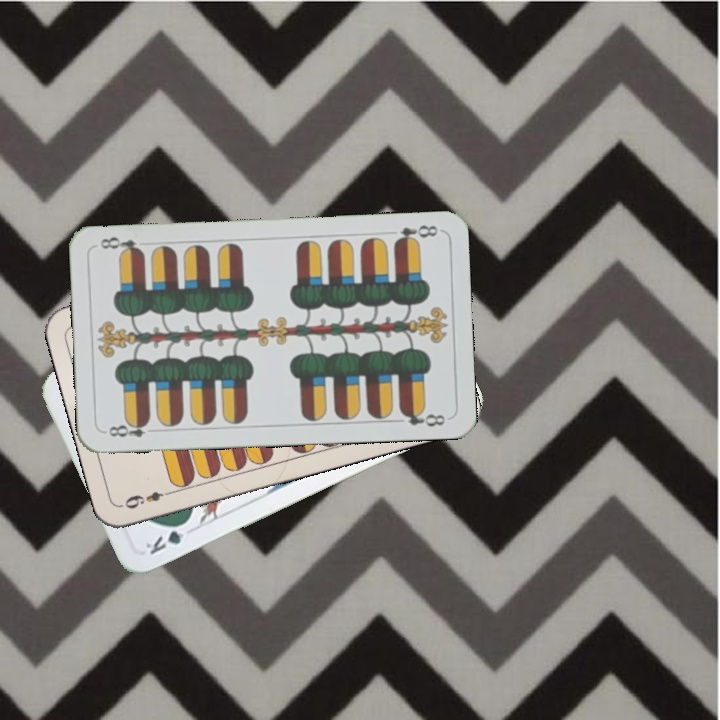E8: (101, 416, 160, 440), (390, 220, 440, 247)
E9: (121, 486, 176, 512)
GK: (141, 517, 192, 558)
